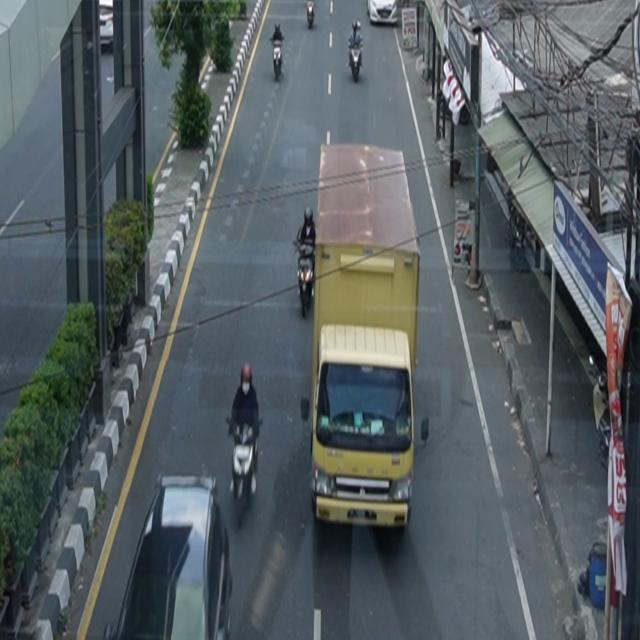car: (104, 475, 234, 640), (367, 1, 398, 26)
truck: (302, 142, 426, 531)
